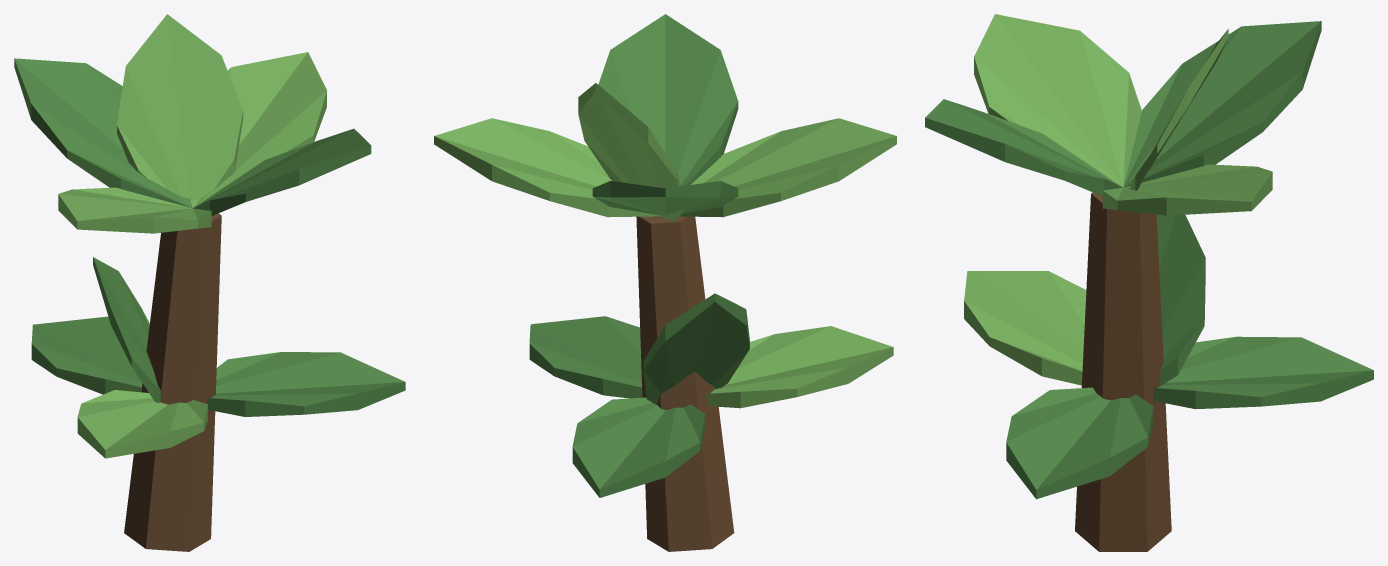
The model's file is psychoid_young.obj.
3 views of the same model, side by side, from view 1: azimuth 30°, elevation 25°; view 2: azimuth 150°, elevation 25°; view 3: azimuth 270°, elevation 25° (orthographic). The views are drawn at different scales.
Parts seen in each view (by area): view 1: psychoid_young_0, psychoid_young_5, psychoid_young_2, psychoid_young_8, psychoid_young_1, psychoid_young_7, psychoid_young_6, psychoid_young_4, psychoid_young_3, psychoid_young_9; view 2: psychoid_young_0, psychoid_young_4, psychoid_young_3, psychoid_young_1, psychoid_young_6, psychoid_young_7, psychoid_young_8, psychoid_young_9, psychoid_young_5, psychoid_young_2; view 3: psychoid_young_0, psychoid_young_3, psychoid_young_2, psychoid_young_8, psychoid_young_6, psychoid_young_7, psychoid_young_4, psychoid_young_1, psychoid_young_9, psychoid_young_5.
Part boxes in pixels (<box>): psychoid_young_0: <box>124,213,221,551</box>; psychoid_young_5: <box>117,14,243,200</box>; psychoid_young_2: <box>14,58,192,208</box>; psychoid_young_8: <box>207,352,405,416</box>; psychoid_young_1: <box>191,52,326,207</box>; psychoid_young_7: <box>77,390,207,458</box>; psychoid_young_6: <box>31,316,142,394</box>; psychoid_young_4: <box>193,128,371,215</box>; psychoid_young_3: <box>58,187,211,233</box>; psychoid_young_9: <box>93,257,161,402</box>; psychoid_young_0: <box>636,216,734,551</box>; psychoid_young_4: <box>598,14,738,186</box>; psychoid_young_3: <box>679,118,896,217</box>; psychoid_young_1: <box>434,118,658,217</box>; psychoid_young_6: <box>572,397,704,497</box>; psychoid_young_7: <box>706,326,893,408</box>; psychoid_young_8: <box>529,316,642,398</box>; psychoid_young_9: <box>643,293,749,404</box>; psychoid_young_5: <box>578,83,683,221</box>; psychoid_young_2: <box>592,181,738,214</box>; psychoid_young_0: <box>1075,192,1171,551</box>; psychoid_young_3: <box>974,14,1141,187</box>; psychoid_young_2: <box>1123,21,1321,187</box>; psychoid_young_8: <box>1006,387,1153,499</box>; psychoid_young_6: <box>1153,336,1373,409</box>; psychoid_young_7: <box>964,271,1086,385</box>; psychoid_young_4: <box>925,99,1122,196</box>; psychoid_young_1: <box>1102,164,1272,215</box>; psychoid_young_9: <box>1156,214,1205,385</box>; psychoid_young_5: <box>1129,29,1228,190</box>.
Size of the model in its own units: 0.2757 by 0.3633 by 0.278.
